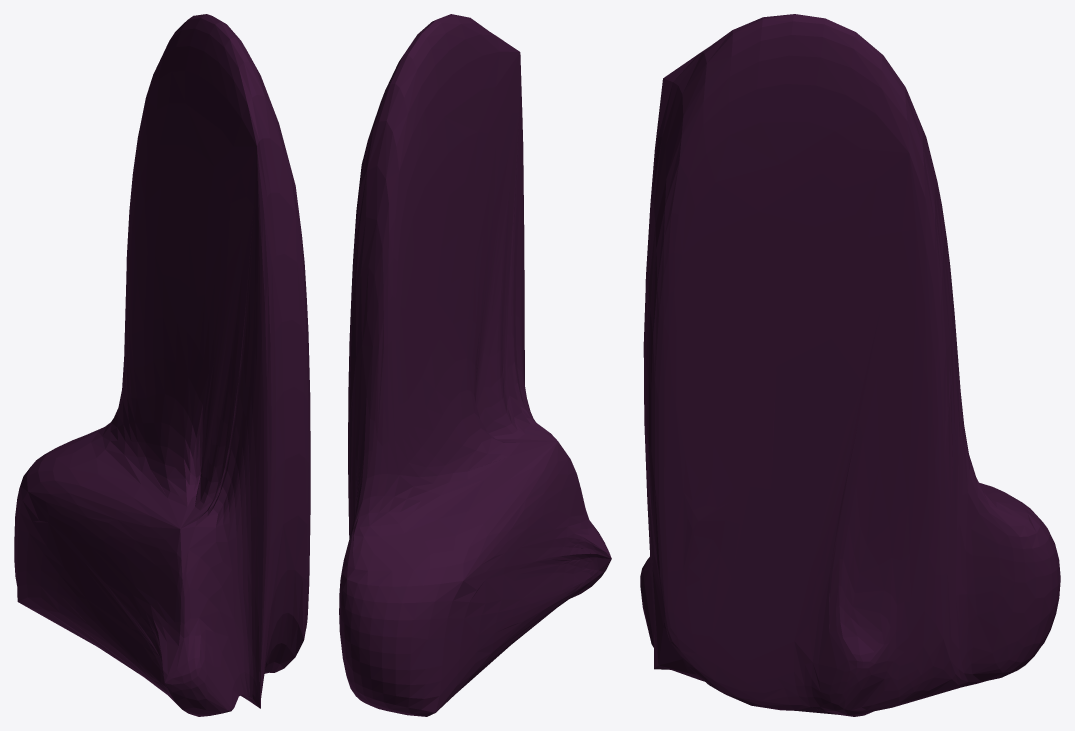
3 views of the same model, side by side, from view 1: azimuth 30°, elevation 25°; view 2: azimuth 150°, elevation 25°; view 3: azimuth 270°, elevation 25° (orthographic). The views are drawn at different scales.
Parts seen in each view (by area): view 1: 855_Cube.3455; view 2: 855_Cube.3455; view 3: 855_Cube.3455.
Boxes of the visible parts, bbox=[...] form: 855_Cube.3455: bbox=[14, 14, 310, 716]; 855_Cube.3455: bbox=[339, 14, 611, 716]; 855_Cube.3455: bbox=[640, 14, 1060, 716].
Size of the model in its own units: 3.05 by 11.47 by 6.29.
